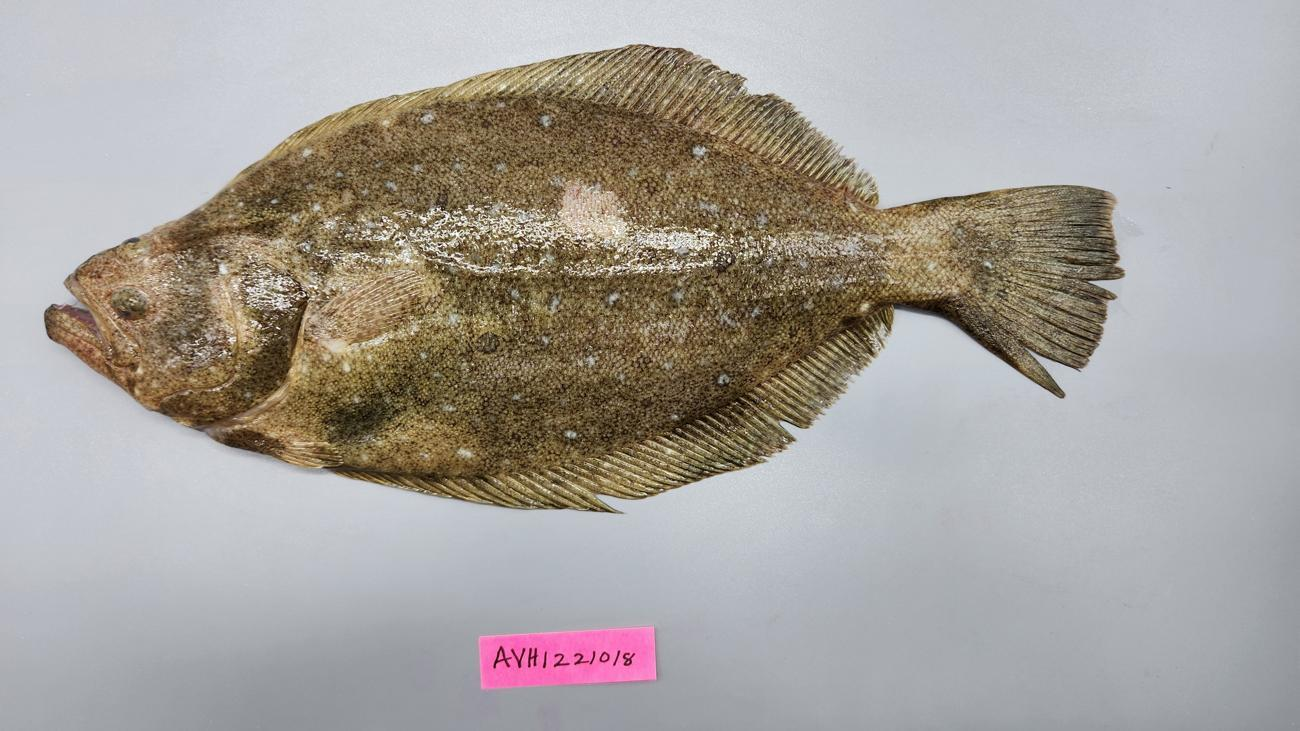VIDYH: (512, 298, 743, 366)
VIDYU: (304, 243, 462, 354), (552, 178, 634, 247)
VIOUY: (43, 42, 1125, 514)
